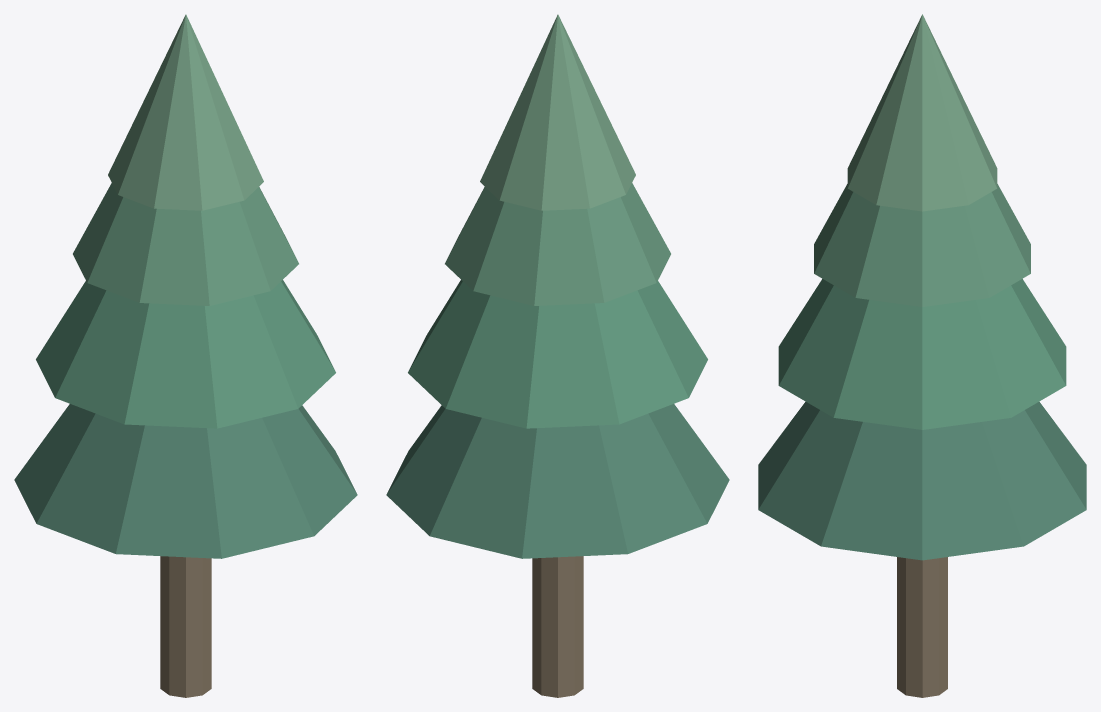
File: conifer.glb
The picture shows the model from 3 angles, left to right: view 1: azimuth 30°, elevation 25°; view 2: azimuth 150°, elevation 25°; view 3: azimuth 270°, elevation 25°; orthographic projection.
Parts seen in each view (by area): view 1: conifer; view 2: conifer; view 3: conifer.
Part boxes in pixels (x1,y1,x2,y2): conifer: (14, 14, 357, 697); conifer: (386, 14, 729, 697); conifer: (758, 14, 1086, 697).
Size of the model in its own units: 4 by 8.6 by 3.8.
